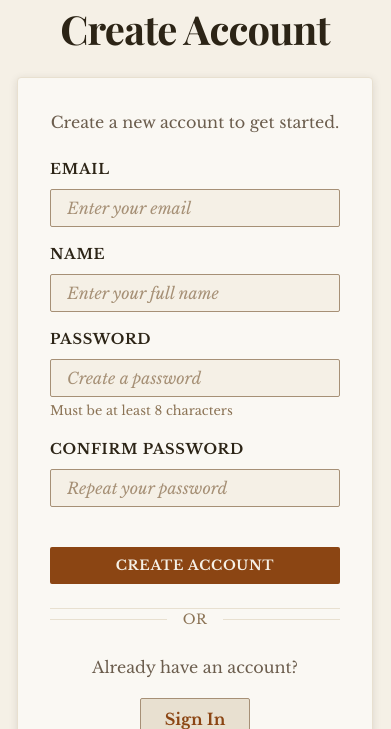
Test: Register › form validation › should show error when passwords do not match
The width and height of the screenshot is (391, 729).
Type "test@example.com" into the field with id "email" at (195, 208), box [50,189,340,227]
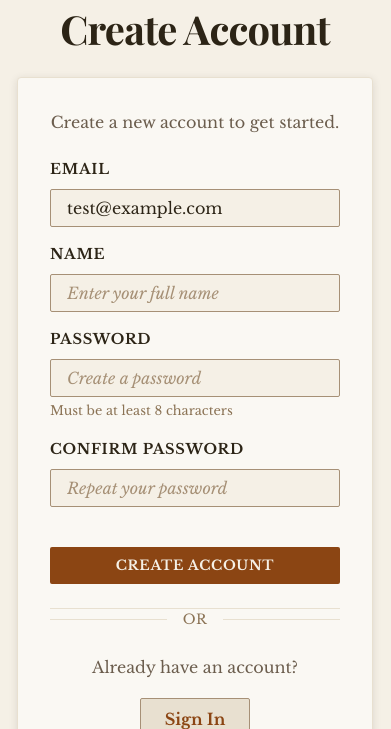
Type "Test User" into the field with id "name" at (195, 293), box [50,274,340,312]
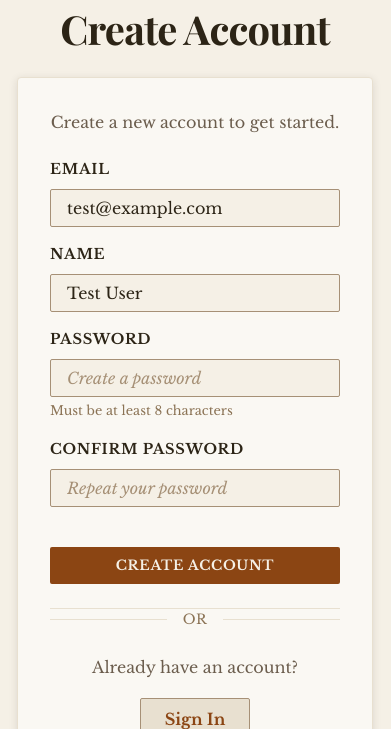
Type "validpassword123" into the password field labelled "Password" at (195, 378), box [50,359,340,397]
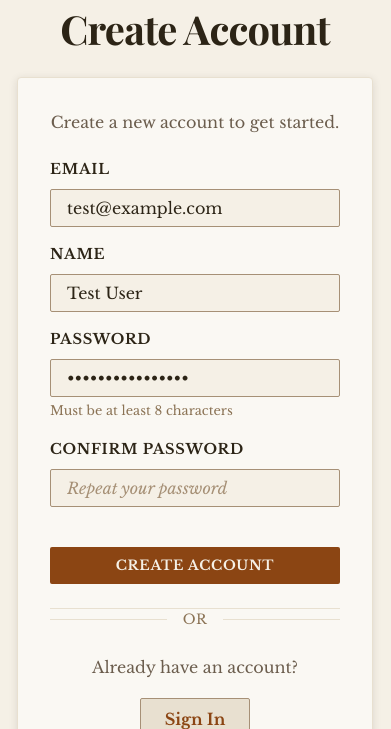
Type "differentpassword" into the password field labelled "Confirm Password" at (195, 488), box [50,469,340,507]
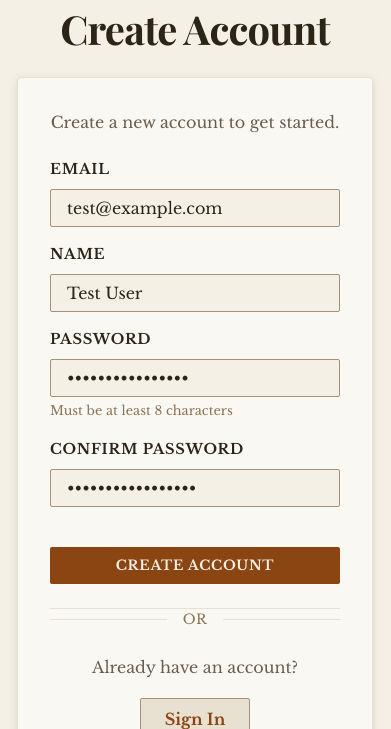
Submit the form, box [50,158,340,584]
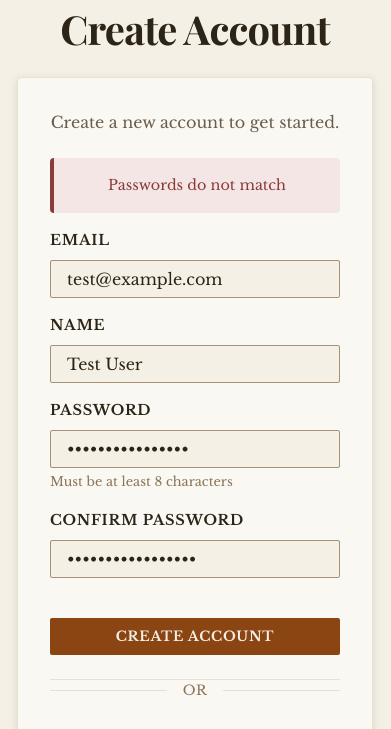
Expected: the text "Passwords do not match" is shown, [50,158,340,213]
